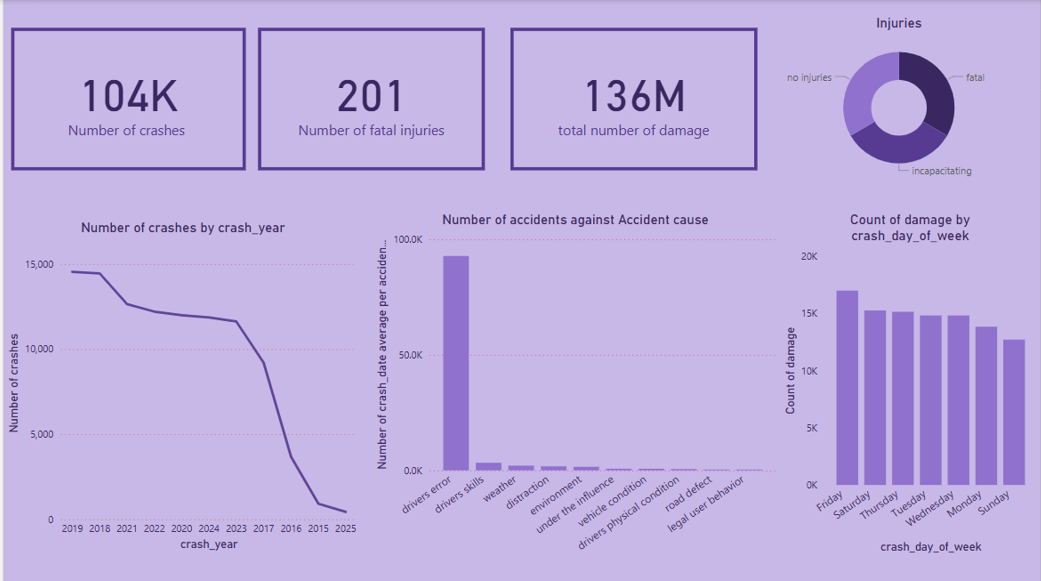

The dashboard page shown, as its layout file describes it:
{"tool":"powerbi","page":{"name":"Duplicate of Page 1","canvas":[1280,720],"ordinal":1},"visuals":[{"type":"card","fields":{"Values":["CountNonNull(cleaned_accidents_data.crash_date)"]},"box":[9.6,34.3,289.5,175.6],"z":0},{"type":"card","fields":{"Values":["Sum(cleaned_accidents_data.injuries_fatal)"]},"box":[314.2,34.3,279.9,175.6],"z":1000},{"type":"lineChart","title":"Number of crashes by crash_year","fields":{"Category":["cleaned_accidents_data.crash_year"],"Y":["CountNonNull(cleaned_accidents_data.crash_date)"]},"box":[0,270.3,443.2,414.4],"z":2000},{"type":"clusteredColumnChart","title":"Number of accidents against Accident cause","fields":{"Category":["cleaned_accidents_data.prim_contributory_cause"],"Y":["cleaned_accidents_data.Count of crash_date average per prim_contributory_cause"]},"box":[454.2,260.7,503.6,459.7],"z":3000},{"type":"donutChart","title":"Injuries","fields":{"Y":["CountNonNull(cleaned_accidents_data.injuries_fatal)","CountNonNull(cleaned_accidents_data.injuries_incapacitating)","CountNonNull(cleaned_accidents_data.injuries_no_indication)"]},"box":[930.4,17.8,349.9,209.9],"z":4000},{"type":"clusteredColumnChart","fields":{"Y":["CountNonNull(cleaned_accidents_data.damage)"],"Category":["cleaned_accidents_data.crash_day_of_week"]},"box":[957.8,260.7,322.5,426.8],"z":5000},{"type":"card","fields":{"Values":["Sum(cleaned_accidents_data.damage)"]},"box":[625.7,34.3,304.6,175.6],"z":6000}]}

Visuals, with their boxes in screenshot pixels (x1, y1, x2, y2), scaled from the page's 1280x720 canvas onto the 1041x581 screenshot:
card - CountNonNull(cleaned_accidents_data.crash_date): detection(8, 28, 243, 169)
card - Sum(cleaned_accidents_data.injuries_fatal): detection(256, 28, 483, 169)
"Number of crashes by crash_year" lineChart: detection(0, 218, 360, 553)
"Number of accidents against Accident cause" clusteredColumnChart: detection(369, 210, 779, 580)
"Injuries" donutChart: detection(757, 14, 1040, 184)
clusteredColumnChart - CountNonNull(cleaned_accidents_data.damage) x cleaned_accidents_data.crash_day_of_week: detection(779, 210, 1040, 555)
card - Sum(cleaned_accidents_data.damage): detection(509, 28, 757, 169)
